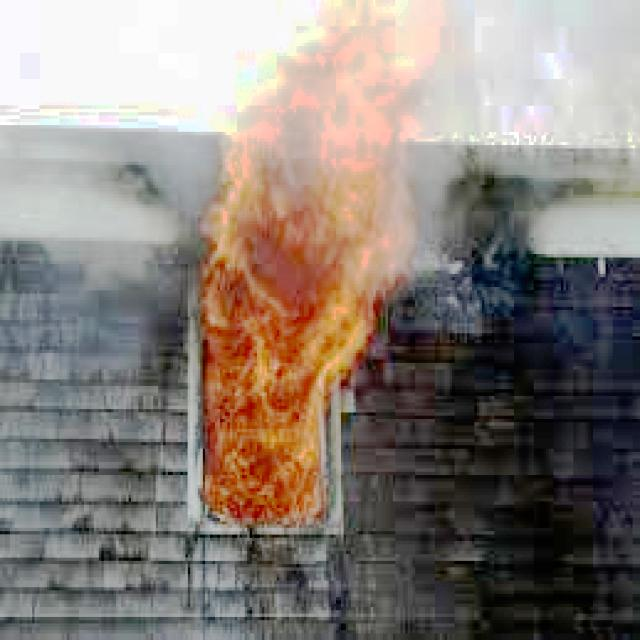api: (187, 50, 429, 552)
